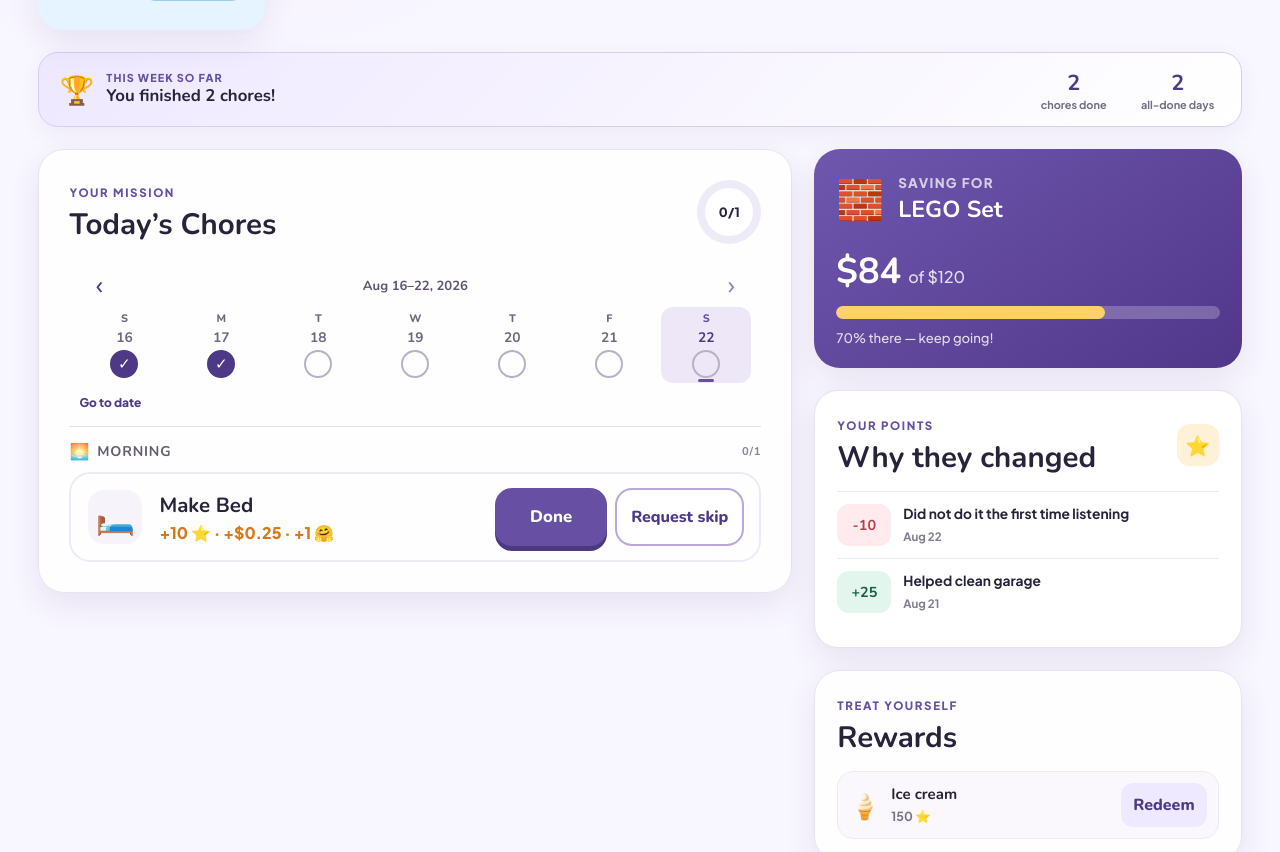
Test: Kids Chores app › lets a kid browse a previous year without editing it
(page scrolled)
Click the heading "Go to date" at (110, 403), box 79,396 -> 141,410
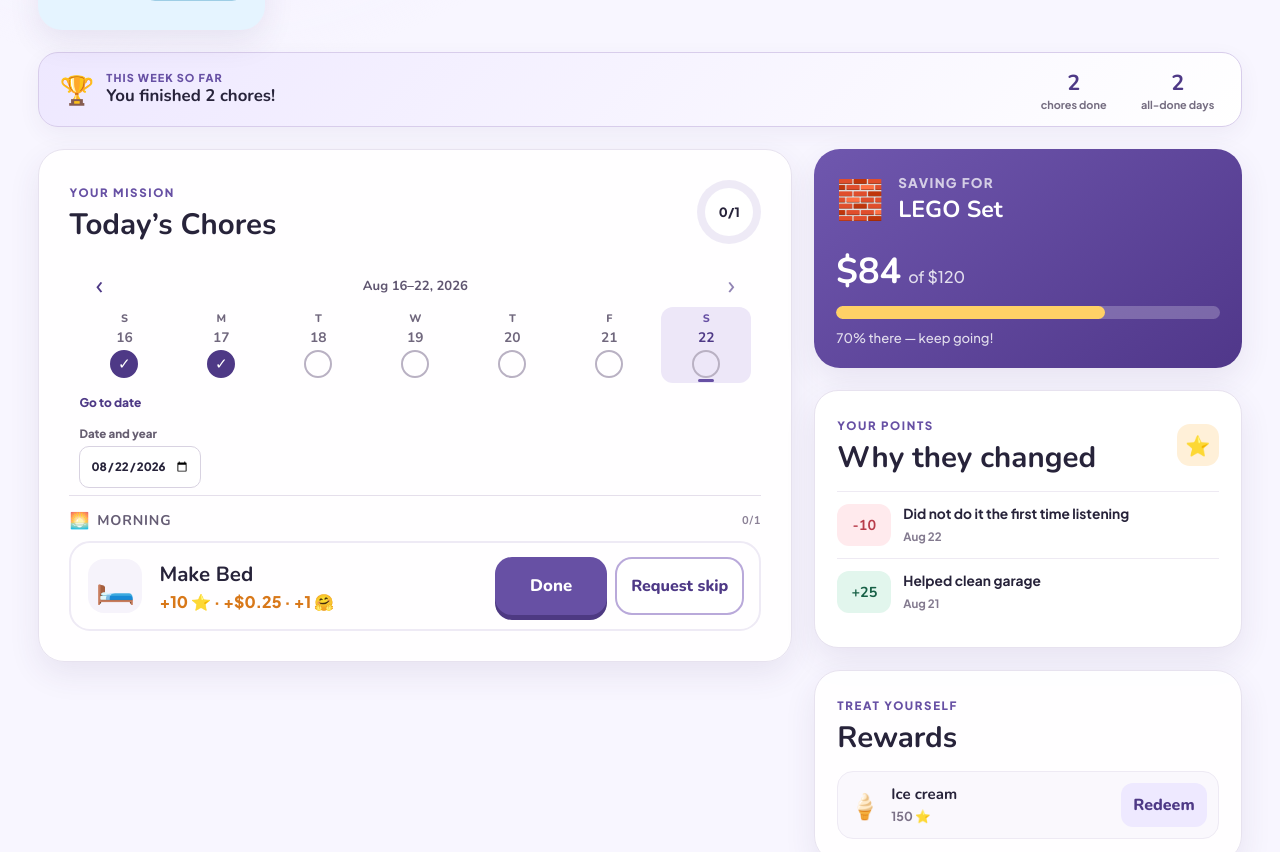
Type "2025-12-31" into the date field named "Jump to date and year" at (140, 467), box 79,446 -> 201,488
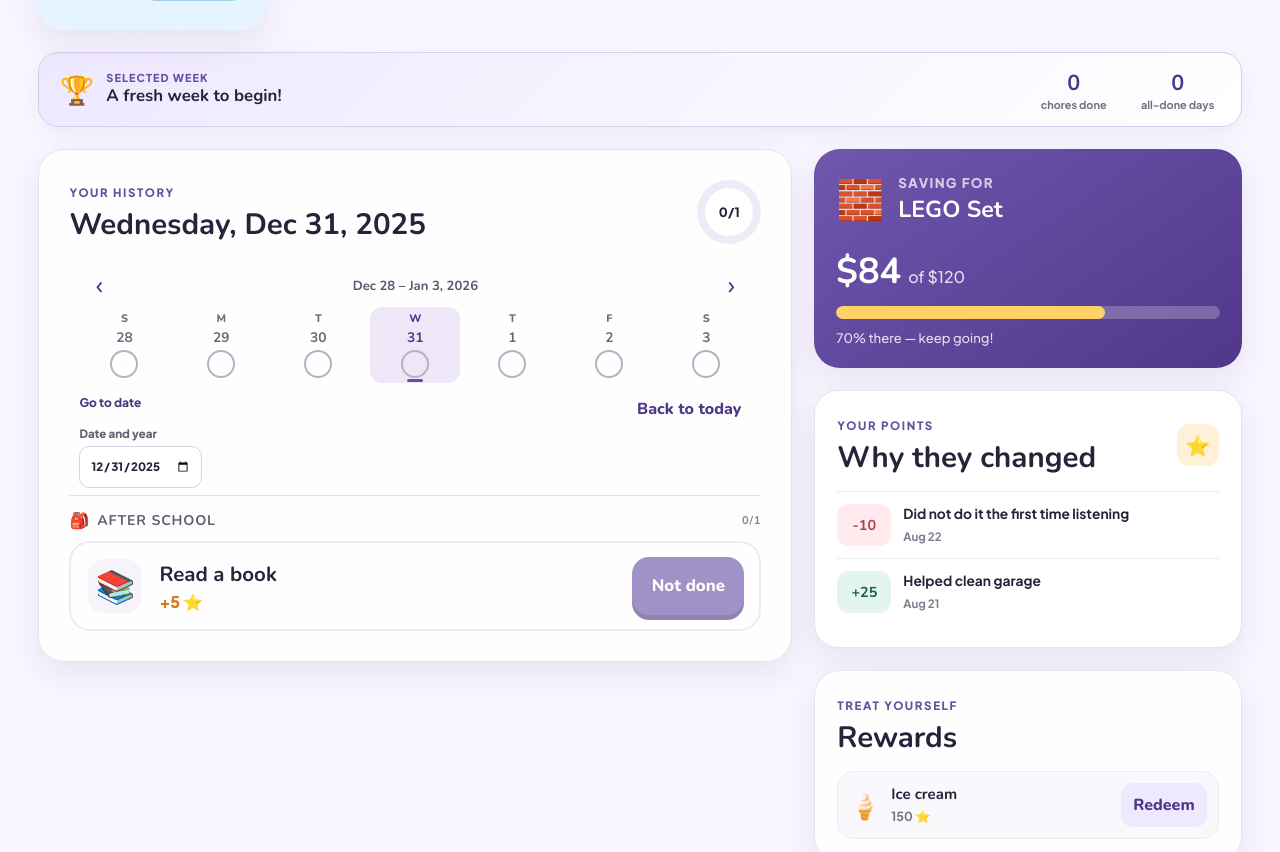
Check: the heading "Read a book" is shown, box 159,560 -> 277,588
Check: the button with aria-label "Read a book was not completed" is disabled, box 632,557 -> 744,615
Check: the button "Back to today" is shown, box 627,387 -> 751,431
